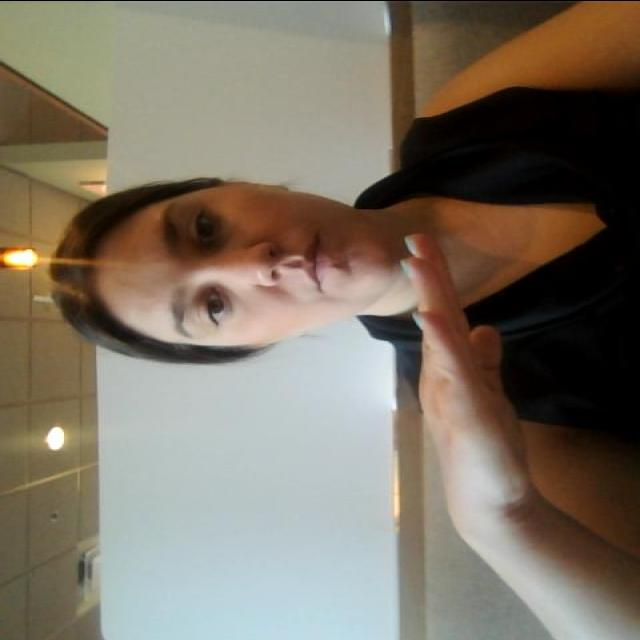Paper: (354, 265, 542, 551)
